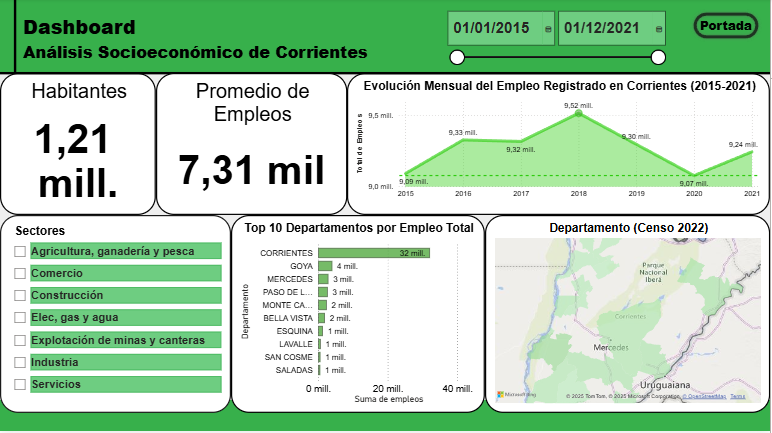

What the dashboard file says about the page in this screenshot:
{"tool":"powerbi","page":{"name":"Reporte","canvas":[1280,720],"ordinal":1},"visuals":[{"type":"actionButton","box":[0,0,100,40],"z":0},{"type":"shape","box":[0,668.3,1280,51.5],"z":1000},{"type":"barChart","title":"Top 10 Departamentos por Empleo Total","fields":{"Category":["Censo_limpio.Departamento"],"Y":["Sum(empleos_corrientes_limpio.empleos)"]},"box":[384,360.7,422.2,329.1],"z":2000},{"type":"lineChart","title":"Evolución Mensual del Empleo Registrado en Corrientes (2015-2021)","fields":{"Category":["empleos_corrientes_limpio.fecha.Variación.Jerarquía de fechas.Año","empleos_corrientes_limpio.fecha.Variación.Jerarquía de fechas.Trimestre","empleos_corrientes_limpio.fecha.Variación.Jerarquía de fechas.Mes","empleos_corrientes_limpio.fecha.Variación.Jerarquía de fechas.Día"],"Y":["Sum(empleos_corrientes_limpio.empleos)"]},"box":[576.8,124.7,703.2,236.1],"z":3000},{"type":"slicer","title":"sdds","fields":{"Values":["empleos_corrientes_limpio.sector"]},"box":[0,360.7,384,329.1],"z":4000},{"type":"shape","box":[0,0,1280,124.7],"z":5000},{"type":"card","title":"Habitantes","fields":{"Values":["Sum(Censo_limpio.Población Total)"]},"box":[0,124.7,259.3,236.1],"z":6000},{"type":"filledMap","title":"Departamento (Censo 2022)","fields":{"Category":["Censo_limpio.Departamento"]},"box":[806.2,360.7,473.8,329.1],"z":7000},{"type":"actionButton","box":[1147,18.3,119.7,54.9],"z":8000},{"type":"textbox","box":[33.2,19.9,606.8,104.7],"z":9000},{"type":"shape","box":[18.6,0,13.5,125.3],"z":10000},{"type":"shape","box":[0,110.1,1280,30.5],"z":11000},{"type":"slicer","fields":{"Values":["empleos_corrientes_limpio.fecha"]},"box":[731.4,11.6,384,103.1],"z":12000},{"type":"card","title":"Promedio de Empleos","fields":{"Values":["empleos_corrientes_limpio.Promedio de Empleos"]},"box":[259.3,124.7,317.5,236.1],"z":13000}]}

Visuals, with their boxes in screenshot pixels (x1, y1, x2, y2), scaled from the page's 1280x720 canvas onto the 772x433 screenshot:
actionButton: x1=0, y1=0, x2=60, y2=24
shape: x1=0, y1=402, x2=771, y2=432
"Top 10 Departamentos por Empleo Total" barChart: x1=232, y1=217, x2=486, y2=415
"Evolución Mensual del Empleo Registrado en Corrientes (2015-2021)" lineChart: x1=348, y1=75, x2=771, y2=217
"sdds" slicer: x1=0, y1=217, x2=232, y2=415
shape: x1=0, y1=0, x2=771, y2=75
"Habitantes" card: x1=0, y1=75, x2=156, y2=217
"Departamento (Censo 2022)" filledMap: x1=486, y1=217, x2=771, y2=415
actionButton: x1=692, y1=11, x2=764, y2=44
textbox: x1=20, y1=12, x2=386, y2=75
shape: x1=11, y1=0, x2=19, y2=75
shape: x1=0, y1=66, x2=771, y2=85
slicer - empleos_corrientes_limpio.fecha: x1=441, y1=7, x2=673, y2=69
"Promedio de Empleos" card: x1=156, y1=75, x2=348, y2=217
